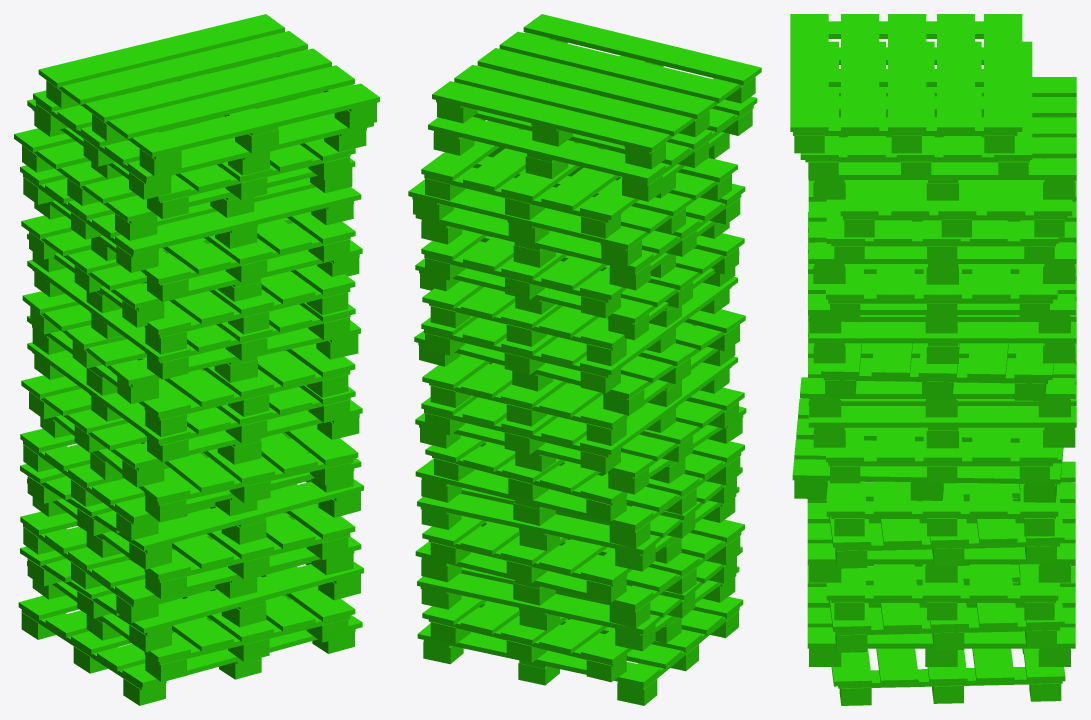
Rendered from Pallet_Pile_02_Lod0.fbx.
3 views of the same model, side by side, from view 1: azimuth 30°, elevation 25°; view 2: azimuth 150°, elevation 25°; view 3: azimuth 270°, elevation 25° (orthographic). The views are drawn at different scales.
Visible parts, largest first — view 1: Pallet_Pile_02_Lod0; view 2: Pallet_Pile_02_Lod0; view 3: Pallet_Pile_02_Lod0.
Boxes of the visible parts, bbox=[...] form: Pallet_Pile_02_Lod0: bbox=[14, 14, 379, 705]; Pallet_Pile_02_Lod0: bbox=[408, 14, 761, 705]; Pallet_Pile_02_Lod0: bbox=[790, 14, 1076, 705].
Size of the model in its own units: 146 by 332 by 149.
